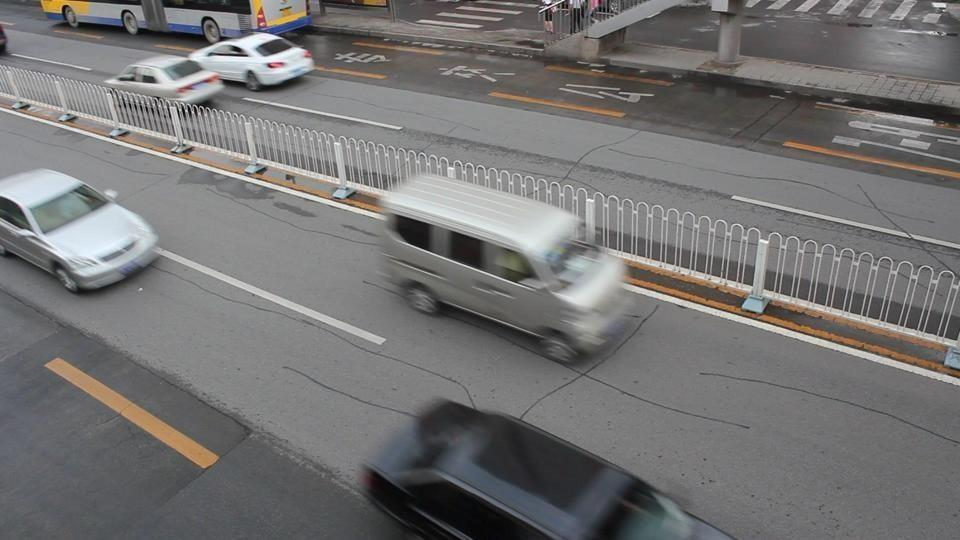car: (357, 397, 731, 537), (377, 174, 634, 365), (0, 166, 160, 293), (188, 30, 315, 91), (102, 54, 225, 107), (0, 21, 8, 54)
